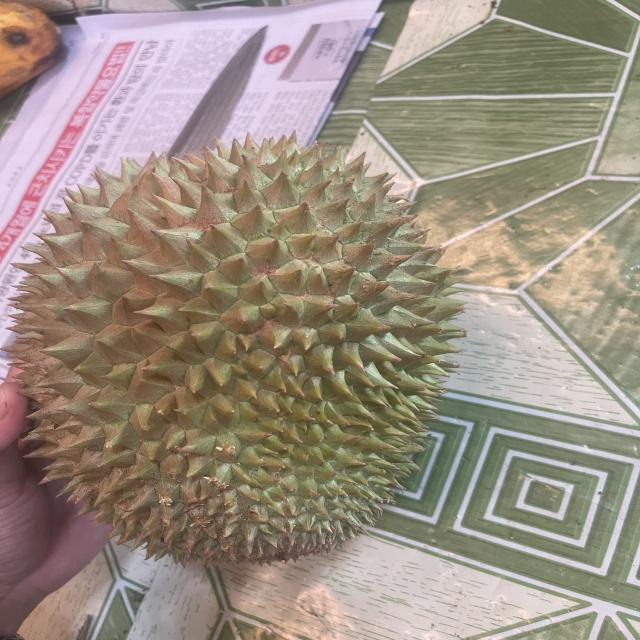mature: (11, 129, 476, 571)
